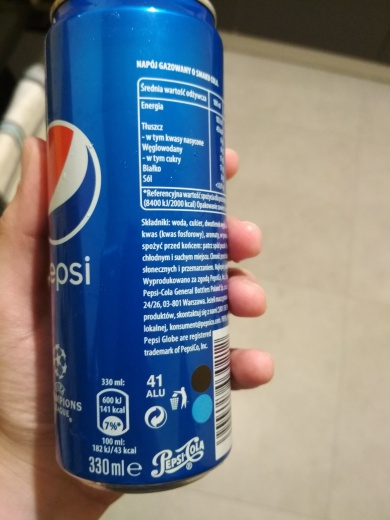pepsi: (41, 1, 235, 496)
